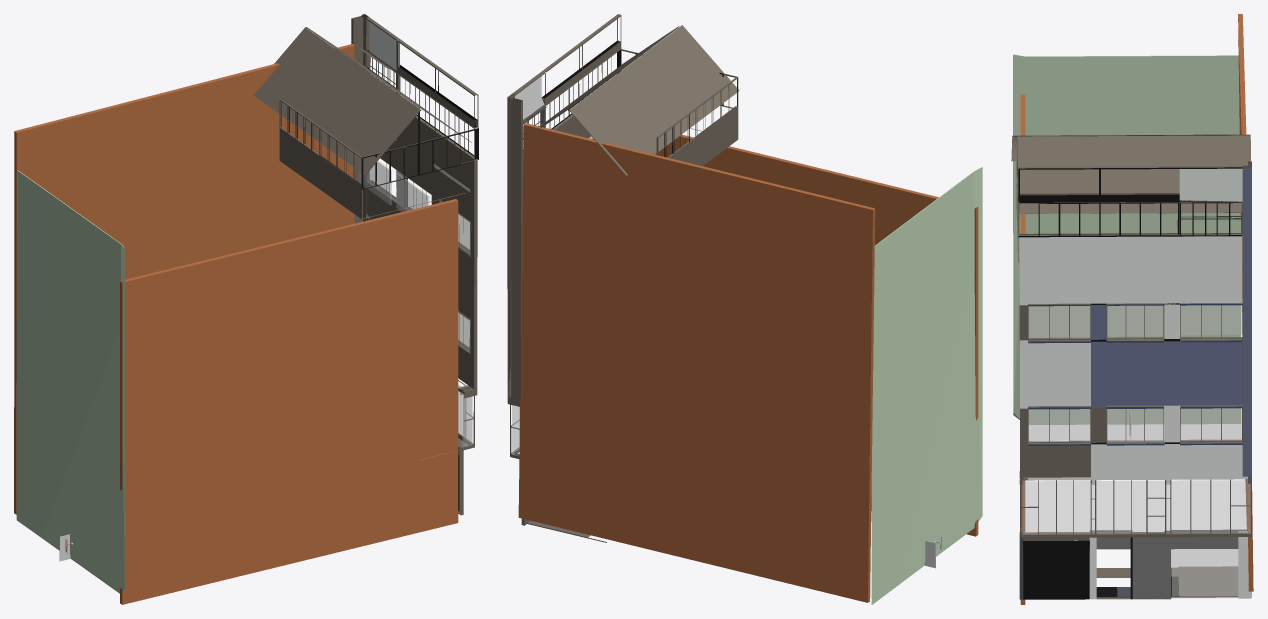
File: sauna.glb
3 renders of one model, left to right at view 1: azimuth 30°, elevation 25°; view 2: azimuth 150°, elevation 25°; view 3: azimuth 270°, elevation 25°, orthographic. The views are drawn at different scales.
Visible parts, largest first — view 1: Cube.004, Cube.006, Cube.050, Cube.013; view 2: Cube.006, Cube.050, Cube.013, Cube.004; view 3: Cube.013, Cube.050, Cube.006, Cube.004.
Boxes of the visible parts, x1=… form: Cube.004: x1=120, y1=199, x2=458, y2=604; Cube.006: x1=14, y1=44, x2=354, y2=514; Cube.050: x1=16, y1=170, x2=124, y2=593; Cube.013: x1=253, y1=14, x2=478, y2=515; Cube.006: x1=518, y1=123, x2=875, y2=602; Cube.050: x1=871, y1=167, x2=982, y2=604; Cube.013: x1=507, y1=14, x2=739, y2=542; Cube.004: x1=655, y1=134, x2=978, y2=536; Cube.013: x1=1011, y1=134, x2=1251, y2=599; Cube.050: x1=1013, y1=54, x2=1240, y2=424; Cube.006: x1=1238, y1=14, x2=1253, y2=591; Cube.004: x1=1020, y1=94, x2=1025, y2=604.
Size of the model in its own units: 315 by 349 by 171.
